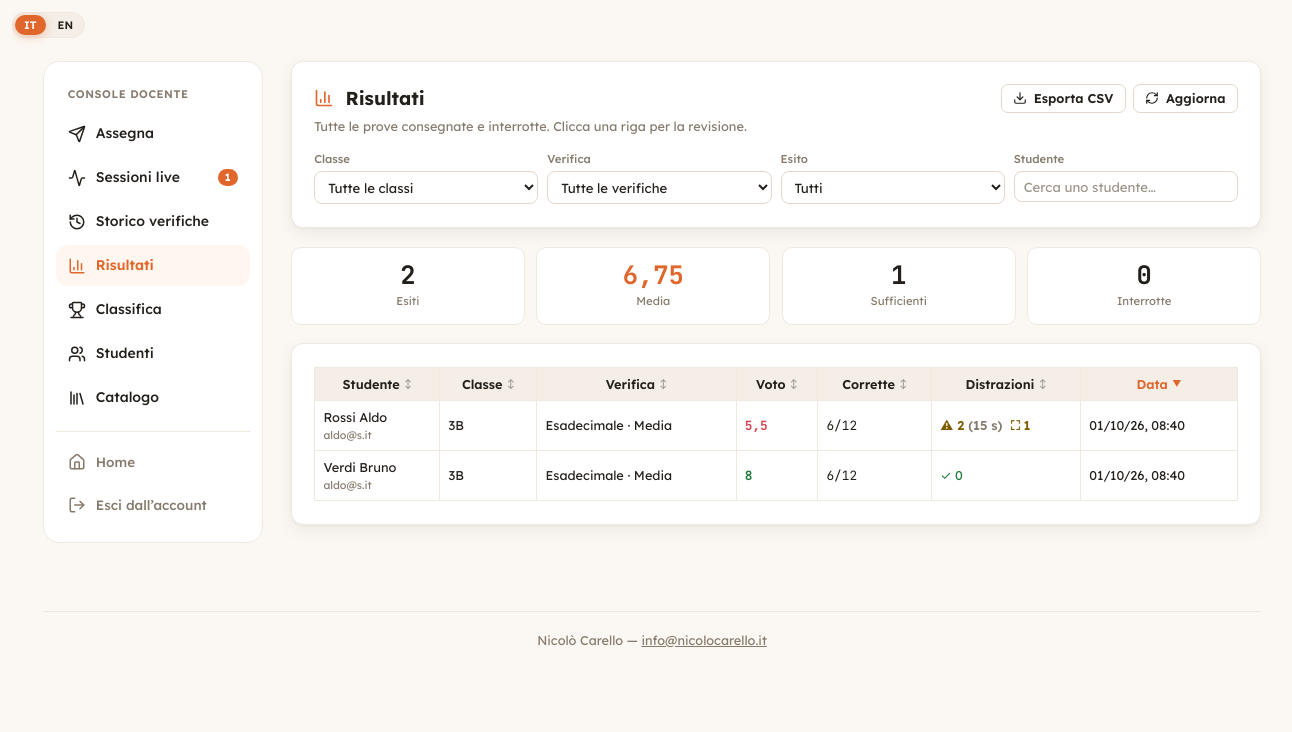
console docente — Studenti e Catalogo › i risultati si filtrano per esito
The width and height of the screenshot is (1292, 732).
Expected: the text "Rossi Aldo" is shown, [324, 409, 387, 425]
Select "Sufficienti" in the dropdown labelled "Esito" at (893, 188), box [780, 171, 1005, 204]
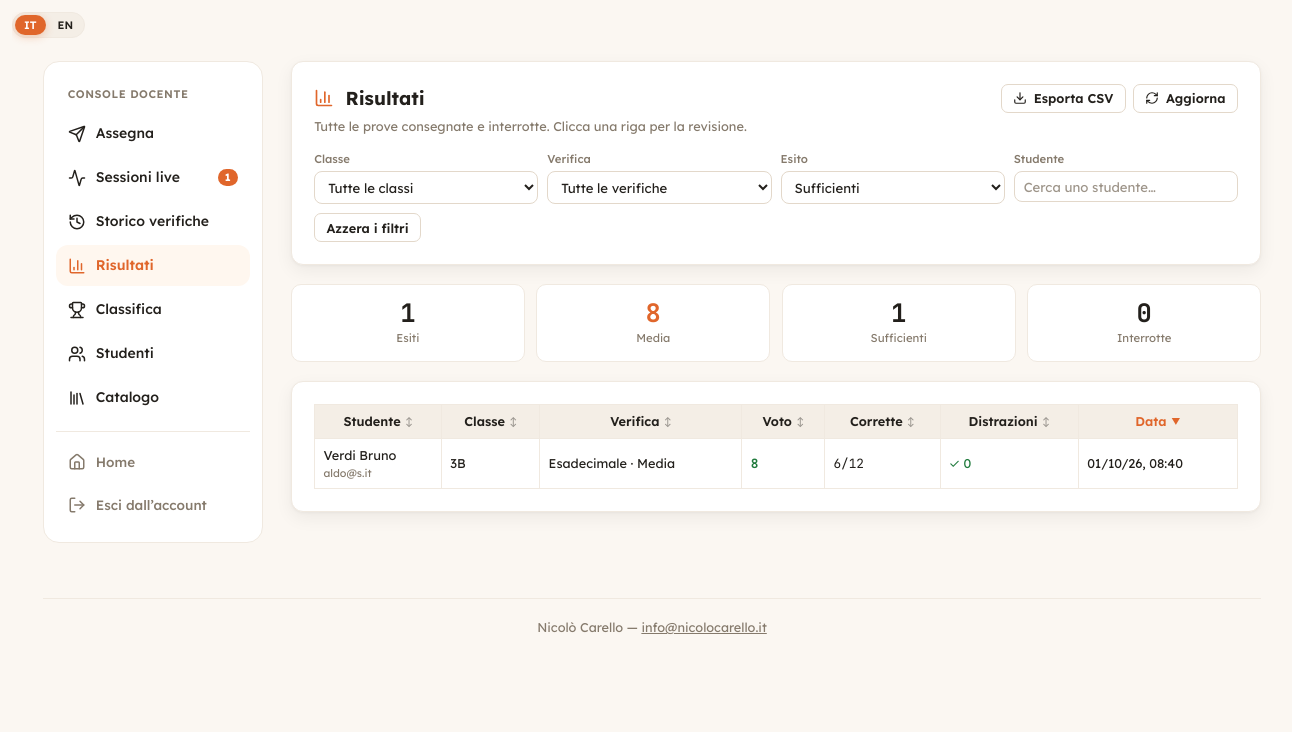
Expected: the text "Verdi Bruno" is shown, [324, 447, 396, 463]
Expected: the button "Rossi Aldo" is gone
